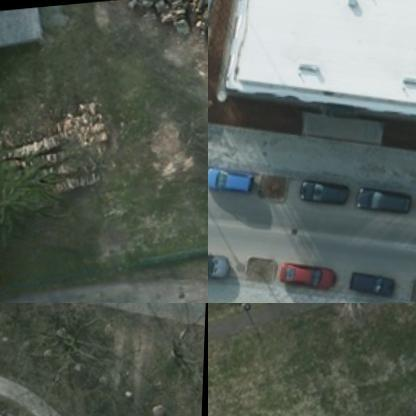car: (300, 173, 354, 209), (357, 181, 415, 213), (284, 258, 340, 288), (208, 161, 262, 191), (350, 264, 402, 294), (208, 245, 238, 280)
